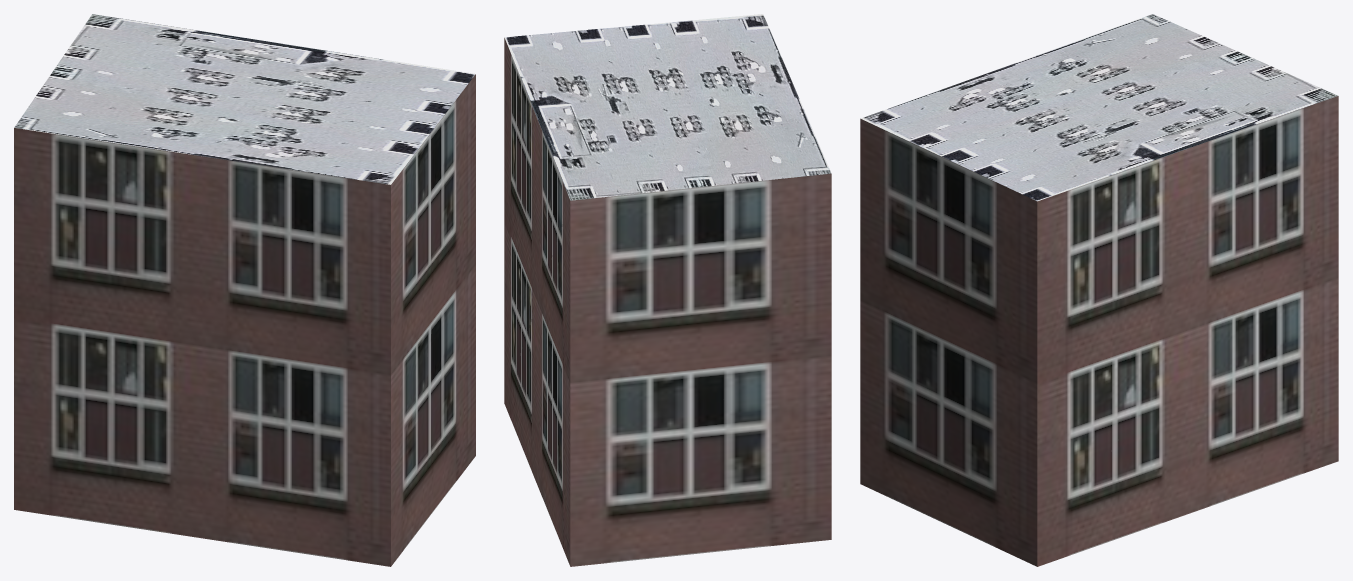
File: ResTex__4092.fbx
3 views of the same model, side by side, from view 1: azimuth 30°, elevation 25°; view 2: azimuth 150°, elevation 25°; view 3: azimuth 270°, elevation 25° (orthographic). The views are drawn at different scales.
Visible parts, largest first — view 1: CityEngineMaterial_12_m, CityEngineMaterial_8_m; view 2: CityEngineMaterial_12_m, CityEngineMaterial_8_m; view 3: CityEngineMaterial_12_m, CityEngineMaterial_8_m.
Boxes of the visible parts, box(x1,y1,x2,y2) form: CityEngineMaterial_12_m: box(14, 74, 475, 566); CityEngineMaterial_8_m: box(14, 14, 475, 184); CityEngineMaterial_12_m: box(504, 38, 831, 566); CityEngineMaterial_8_m: box(504, 14, 831, 200); CityEngineMaterial_12_m: box(860, 96, 1338, 566); CityEngineMaterial_8_m: box(861, 14, 1338, 201).
Bounding box in the file's own units: 6.6 × 6 × 7.11.
Materials: 2 (2 with a texture image).
